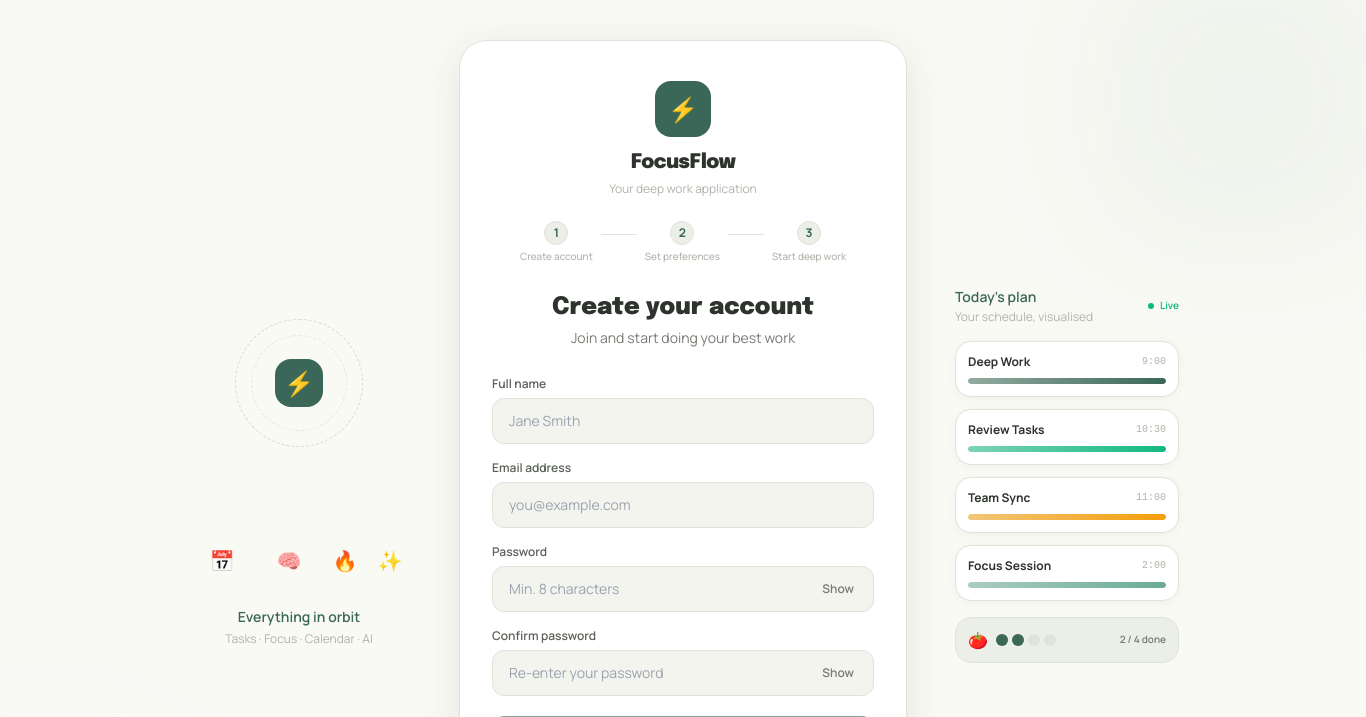
RegisterPage – PasswordStrength rule indicators › shows all 4 rule labels once any character is typed
The width and height of the screenshot is (1366, 717).
Type "a" into the password field labelled "Password". click: x=683, y=589
box: 492,566 -> 874,612
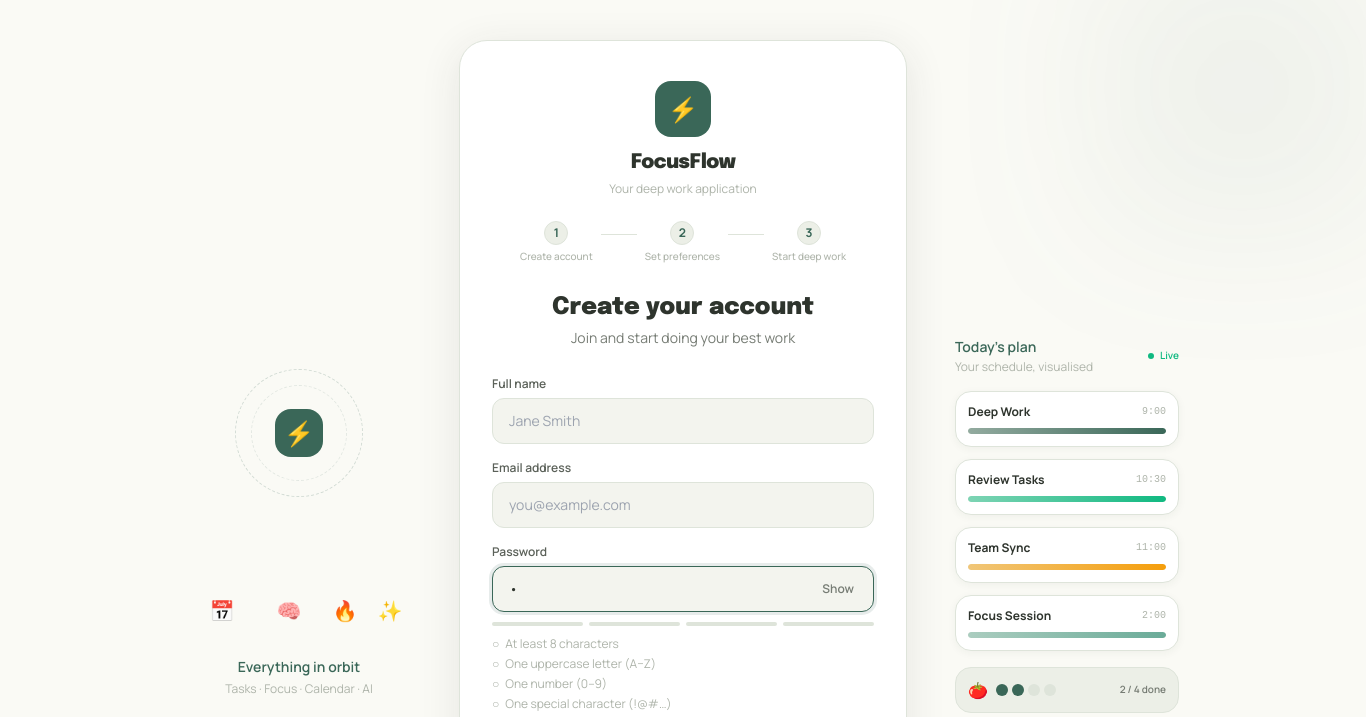
expect the text "At least 8 characters" is shown: met, box 505,636 -> 619,652
expect the text "One uppercase letter (A–Z)" is shown: met, box 505,656 -> 656,672
expect the text "One number (0–9)" is shown: met, box 505,676 -> 607,692
